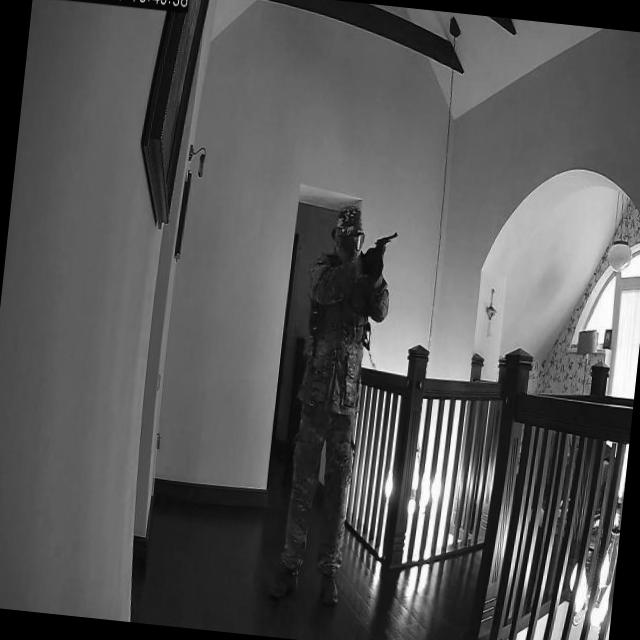gun: (371, 228, 400, 259)
person with a gun: (266, 194, 408, 613)
